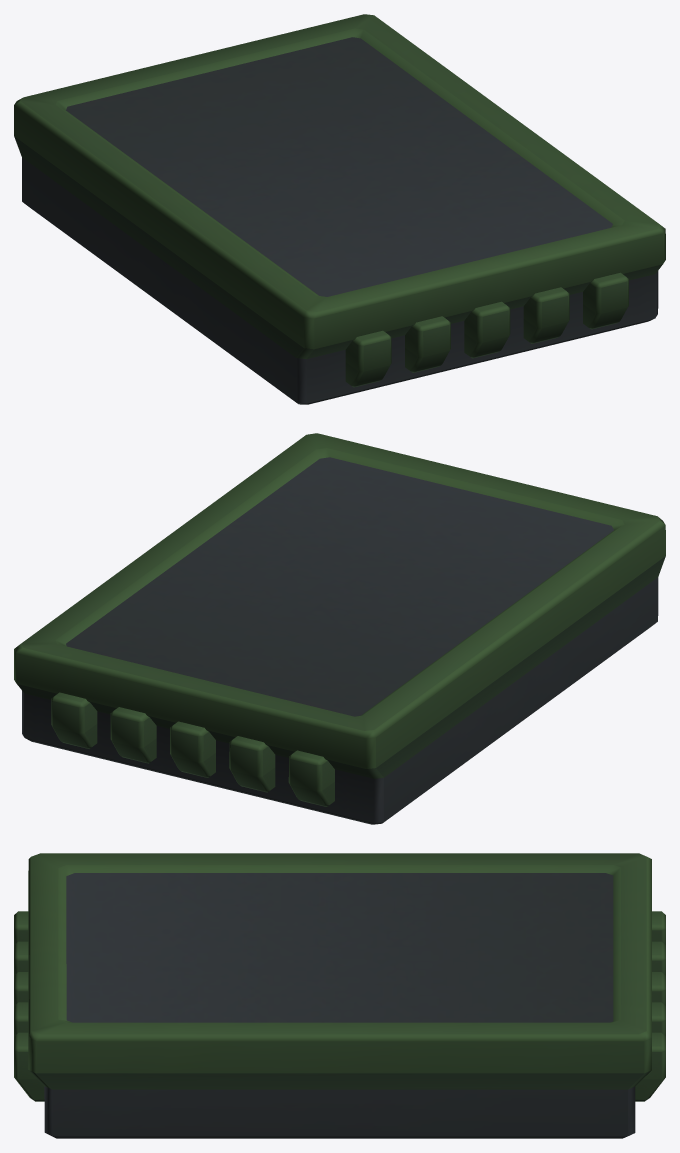
File: appartment_type1_roof_type2_flat_brown.fbx
3 renders of one model, top to bottom at view 1: azimuth 30°, elevation 25°; view 2: azimuth 150°, elevation 25°; view 3: azimuth 270°, elevation 25°, orthographic. The views are drawn at different scales.
Parts seen in each view (by area): view 1: appartment_type1_roof_type2_flat_brown; view 2: appartment_type1_roof_type2_flat_brown; view 3: appartment_type1_roof_type2_flat_brown.
Boxes of the visible parts, bbox=[...] form: appartment_type1_roof_type2_flat_brown: bbox=[14, 14, 665, 404]; appartment_type1_roof_type2_flat_brown: bbox=[14, 433, 665, 824]; appartment_type1_roof_type2_flat_brown: bbox=[14, 853, 665, 1138].
Size of the model in its own units: 610 by 160 by 907.
